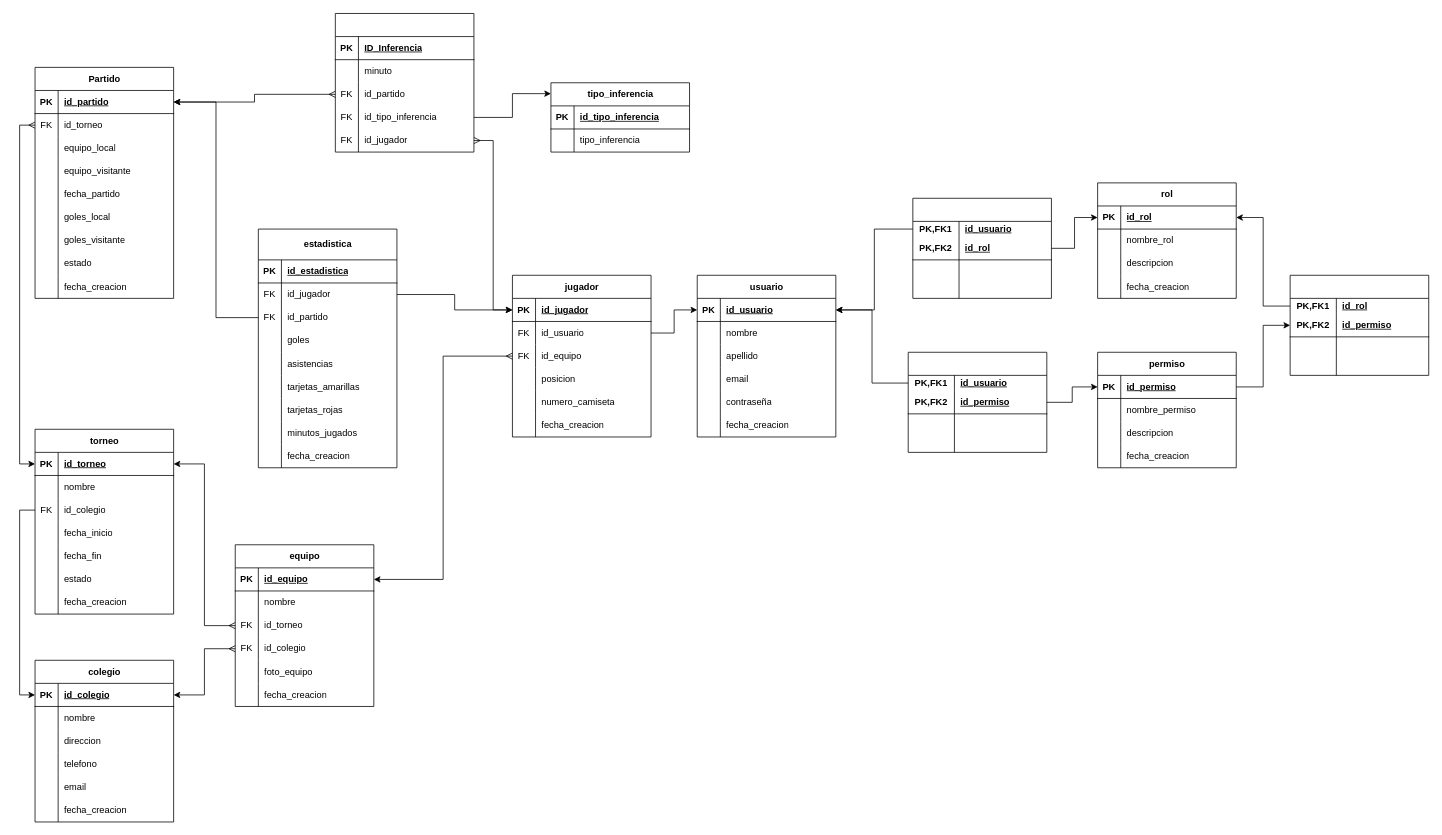
Image size: 1442x835. Some labels were removed from this diagram. Each missing label, with the box of its shape:
Incidencia: (335, 13, 474, 152)
role_permiso: (1289, 275, 1429, 375)
usuario_permiso: (907, 352, 1047, 452)
usuario_role: (912, 198, 1051, 298)
